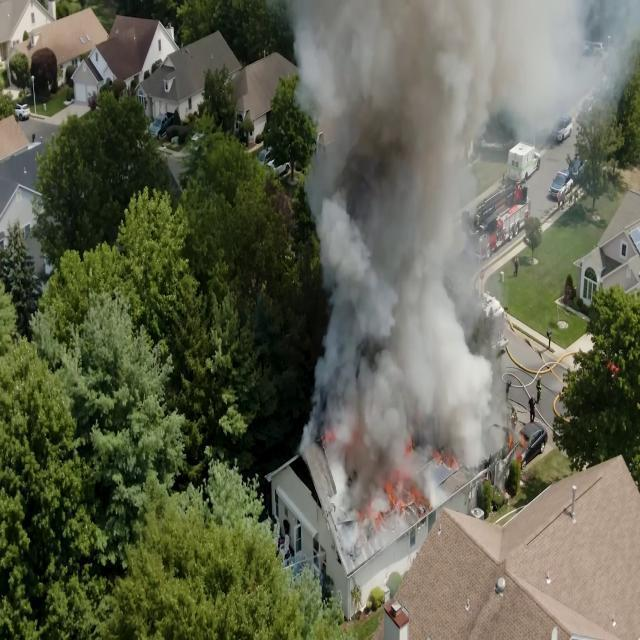Smoke: (318, 2, 467, 241), (334, 255, 491, 441), (470, 0, 612, 103)
